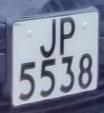3: (58, 53, 77, 97)
5: (15, 56, 40, 107), (36, 56, 59, 101)
8: (76, 48, 94, 95)
J: (36, 14, 61, 59)
P: (57, 13, 79, 57)
